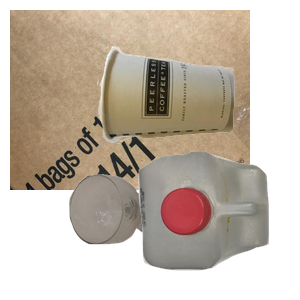cardboard: (10, 10, 250, 190)
glass: (67, 172, 229, 300)
plastic: (136, 149, 300, 300)
trash: (95, 44, 300, 180)
